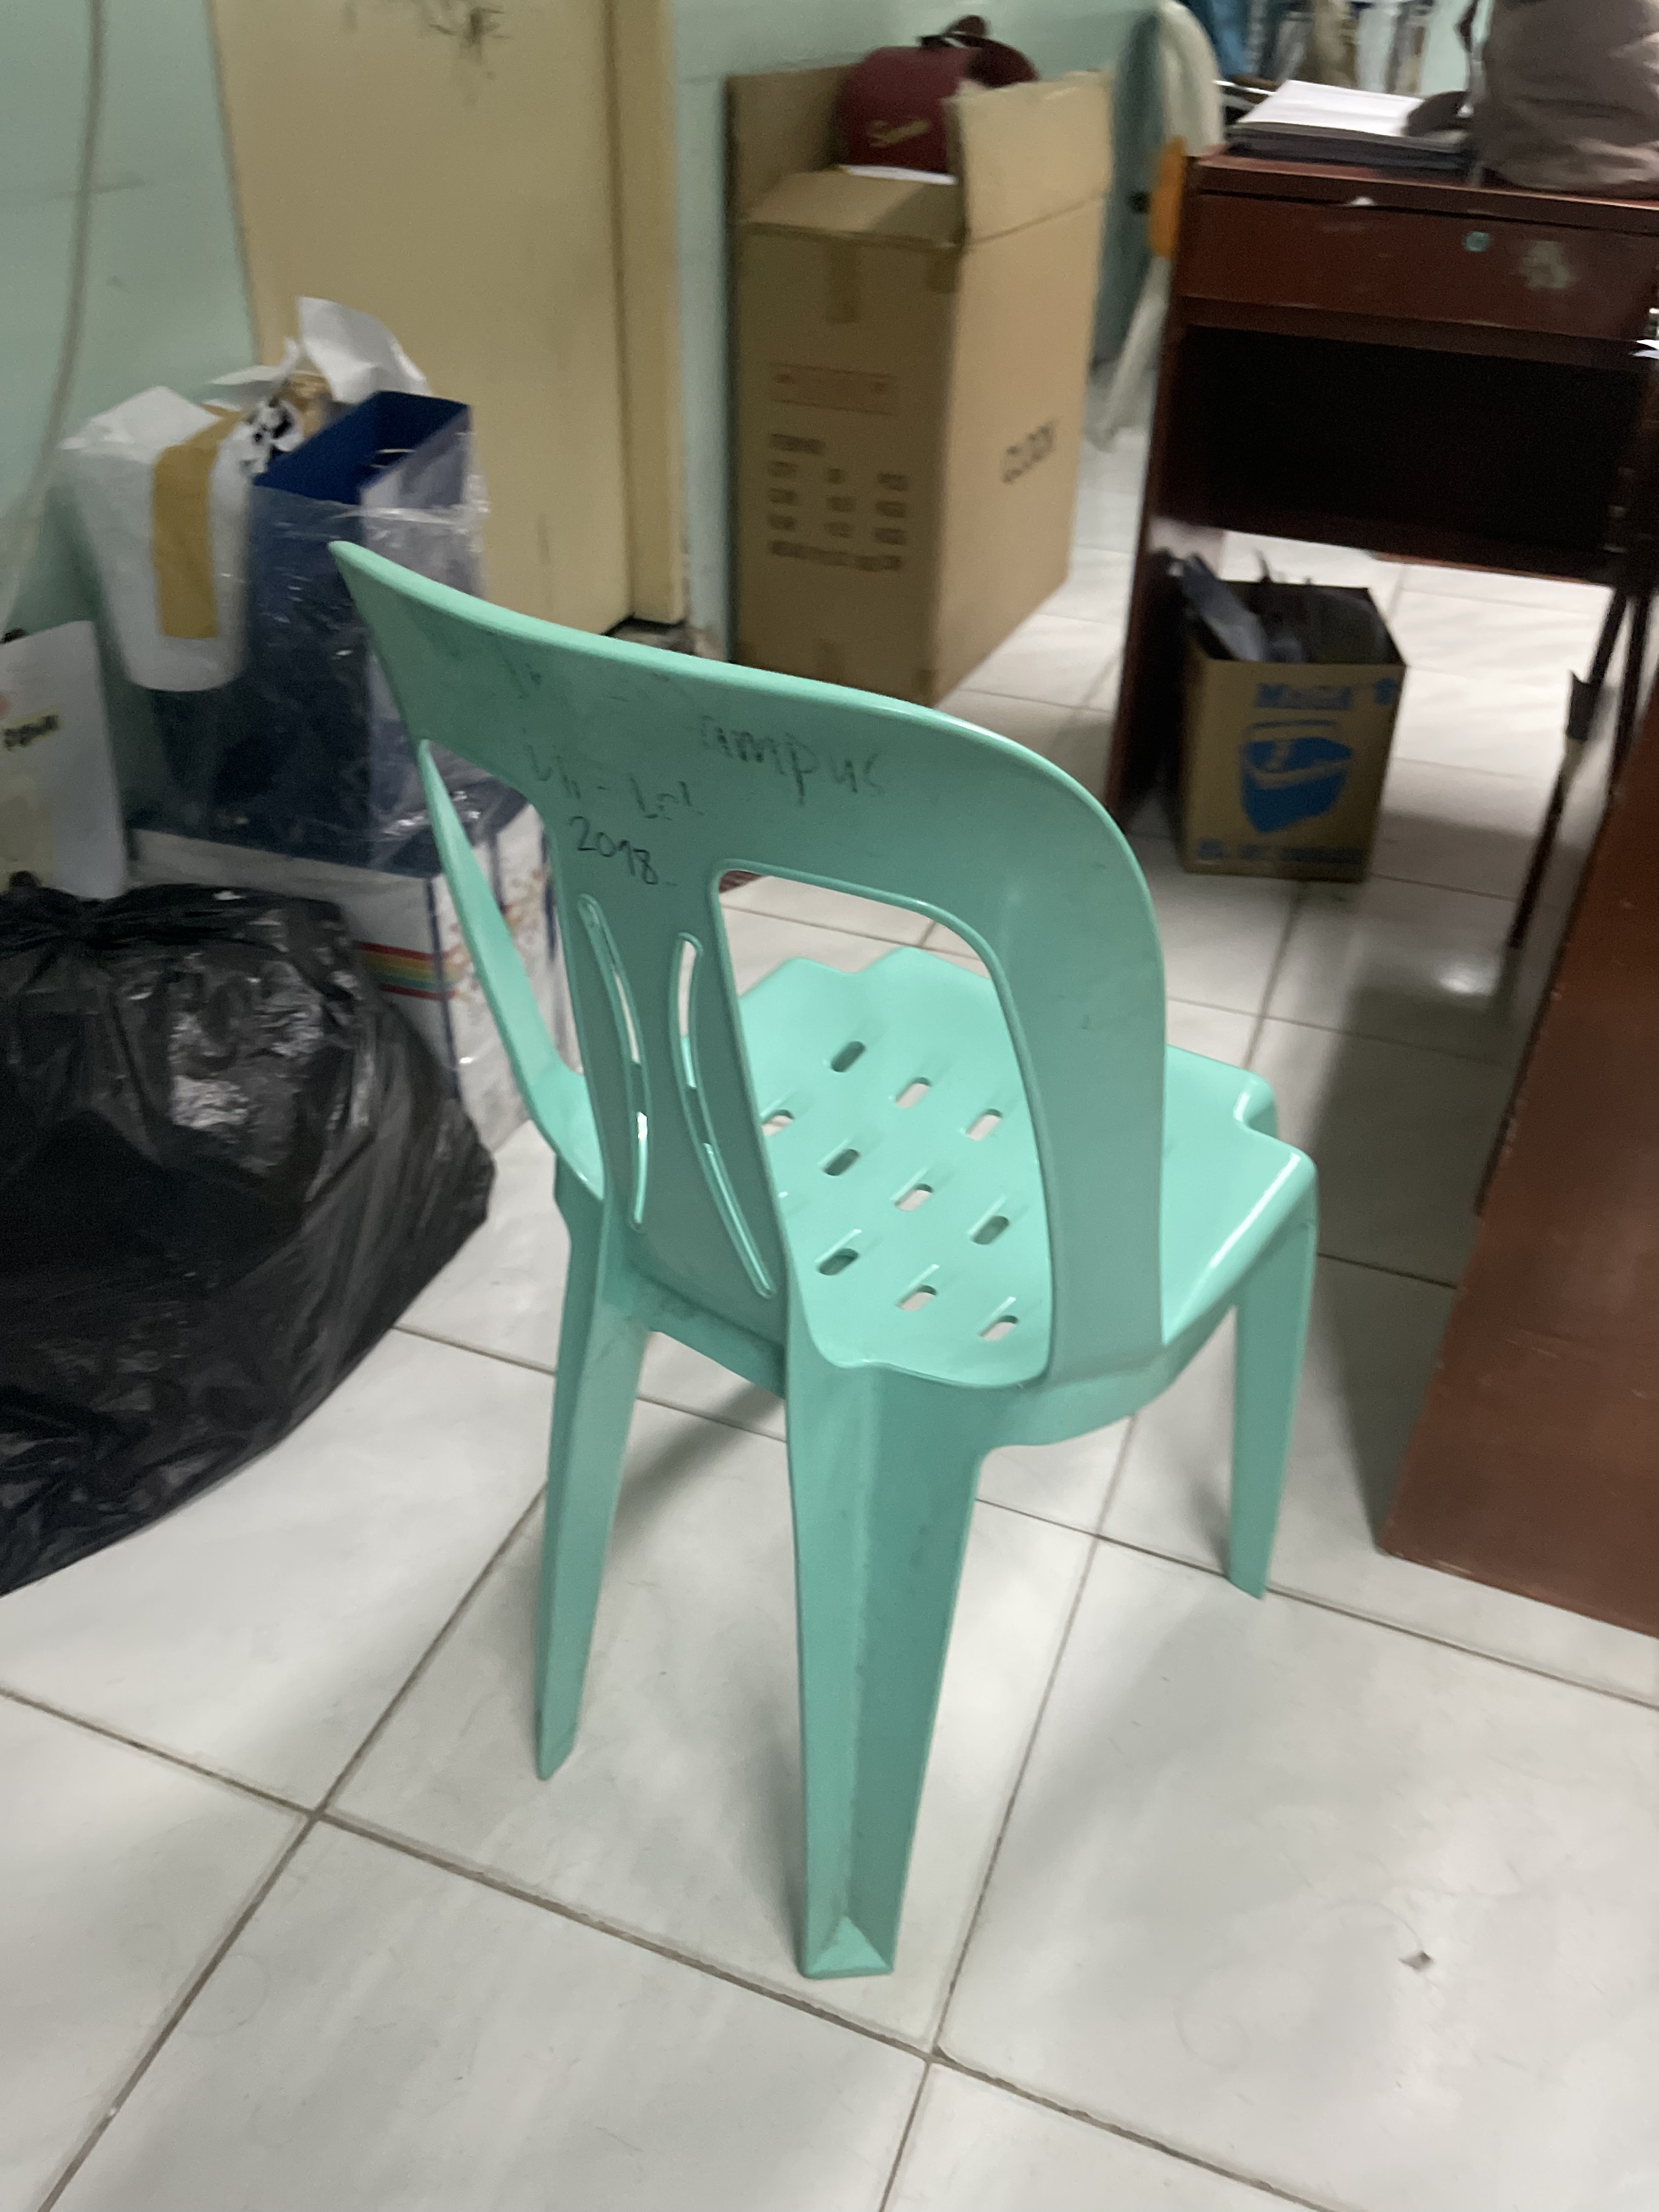chair2: (314, 524, 1330, 2005)
